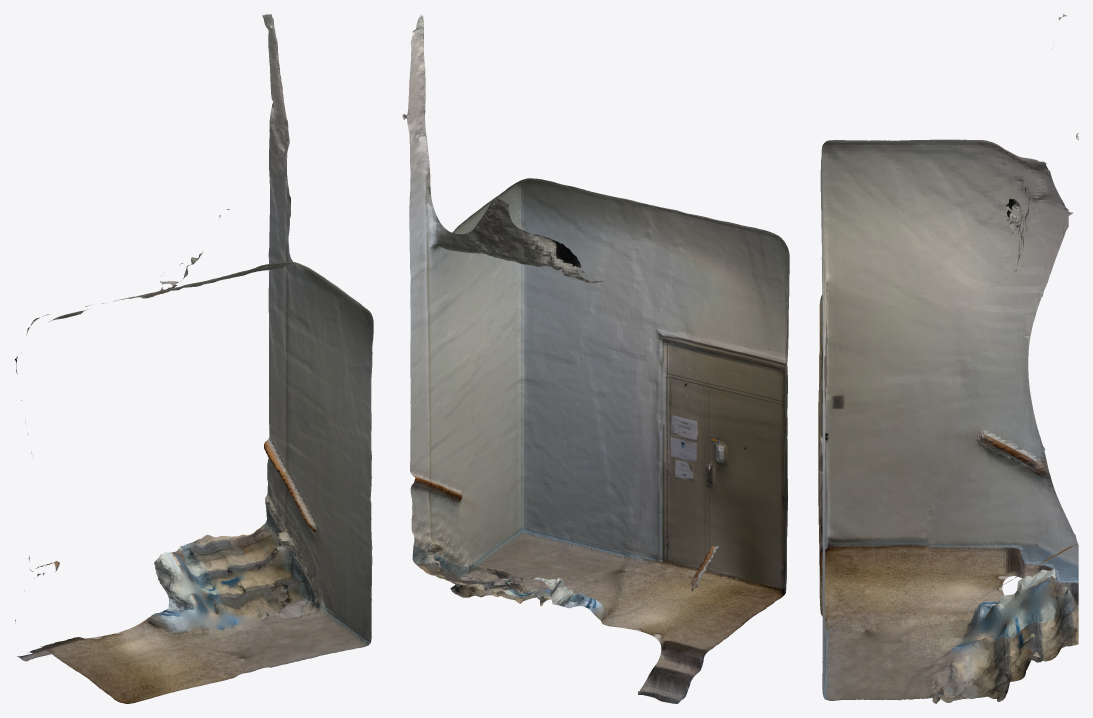
The model's file is chambre1.glb.
The picture shows the model from 3 angles, left to right: view 1: azimuth 30°, elevation 25°; view 2: azimuth 150°, elevation 25°; view 3: azimuth 270°, elevation 25°; orthographic projection. The views are drawn at different scales.
Bounding box in the file's own units: 3.32 × 7.03 × 2.31.
1 material, 1 textured.
